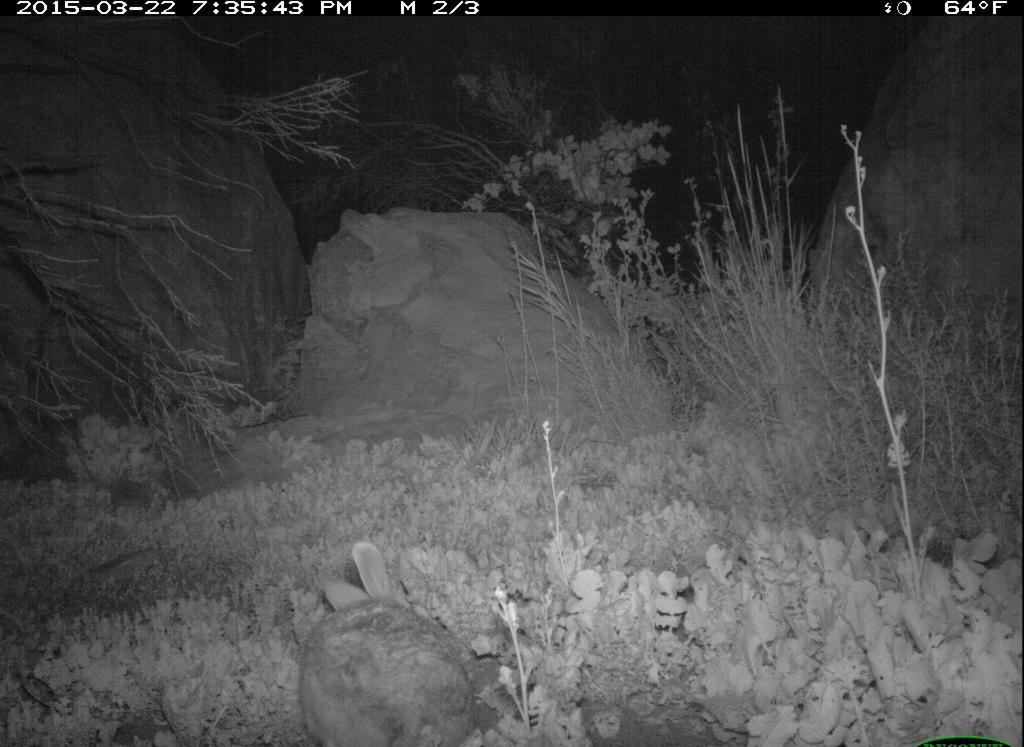rabbit: (291, 534, 506, 747)
